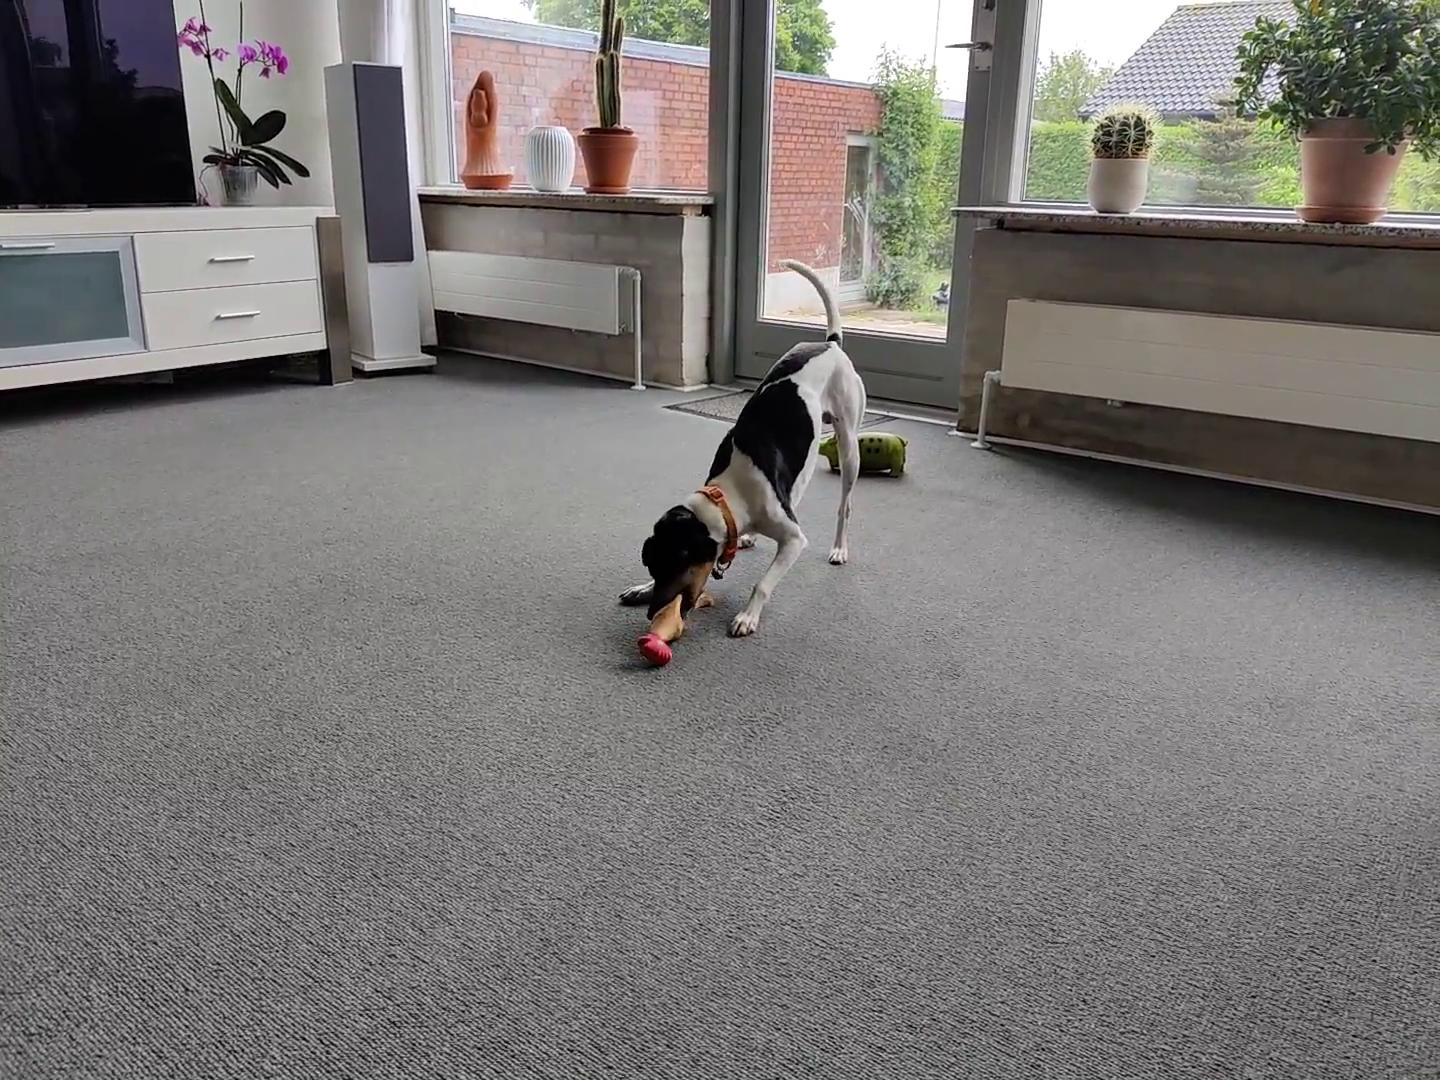Dog: (608, 252, 871, 643)
